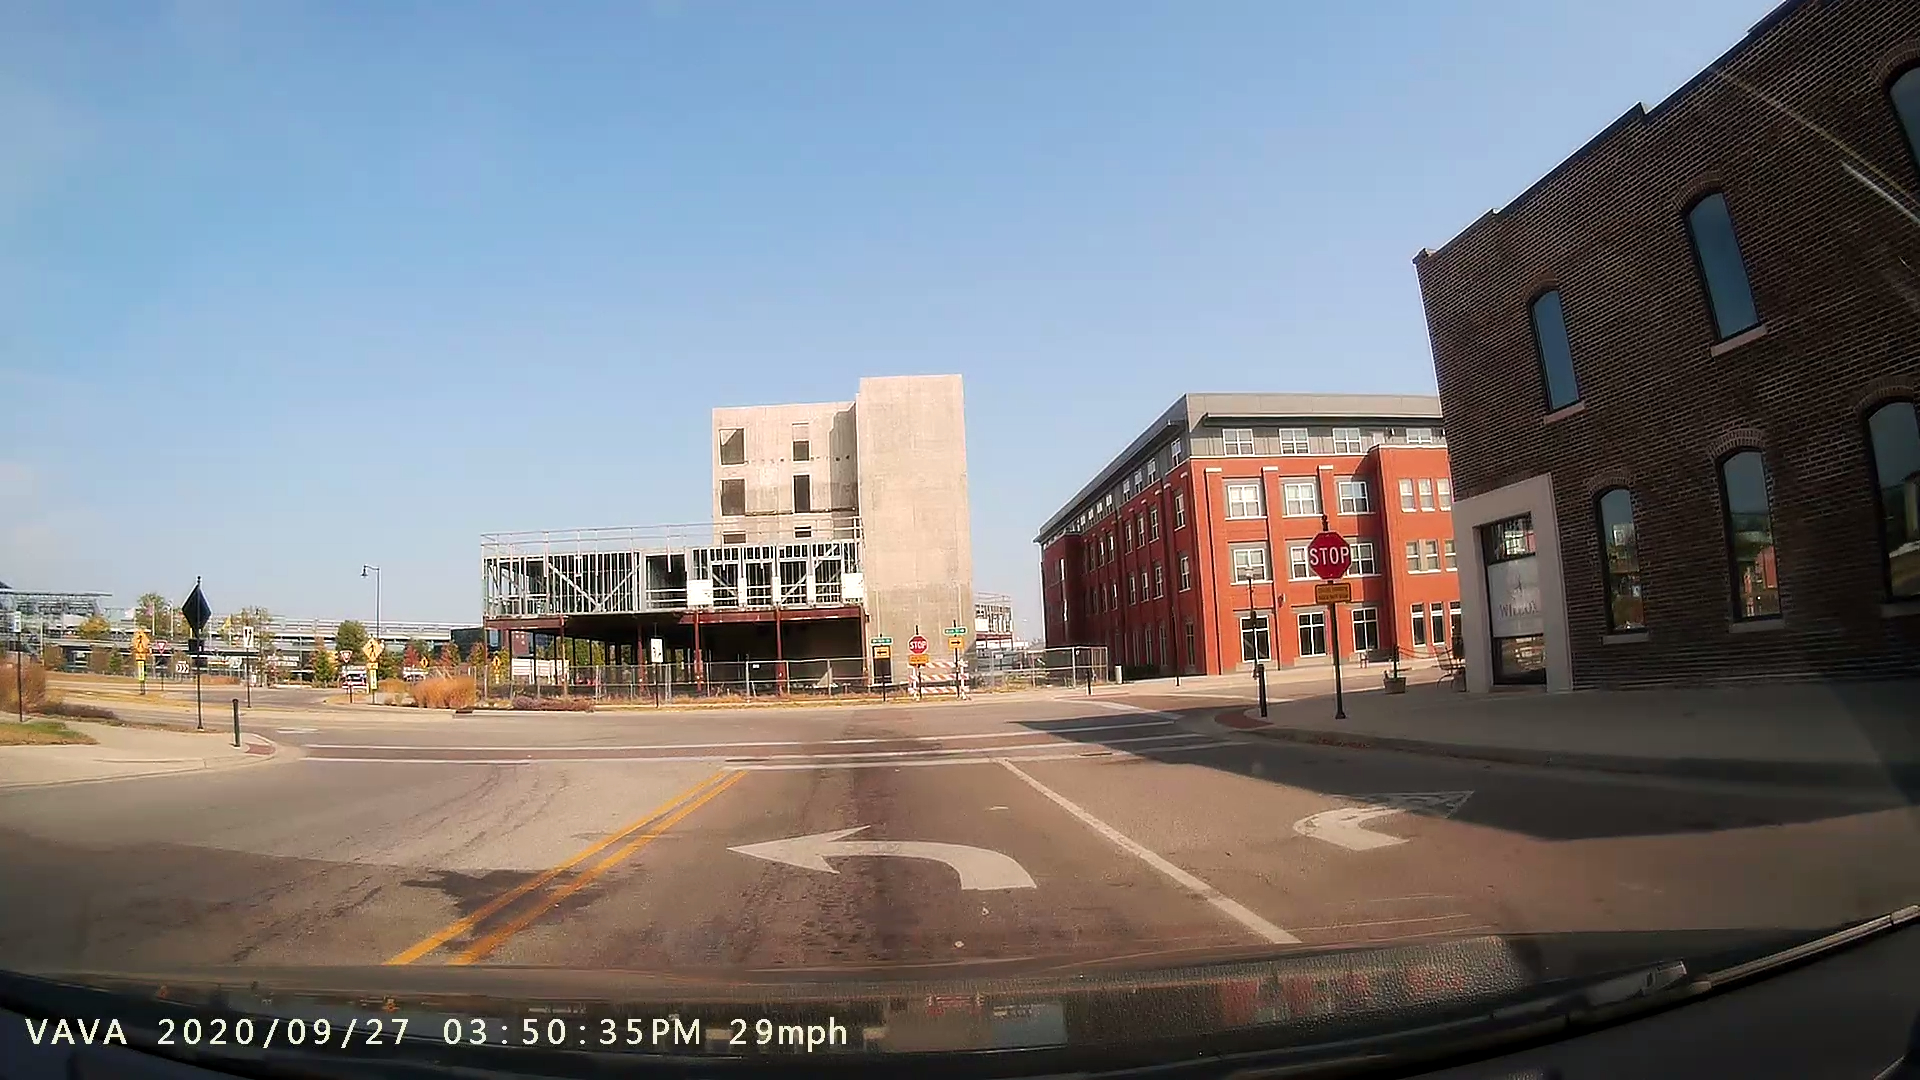left_turn: (708, 808, 1051, 902)
right_turn: (1282, 778, 1495, 866)
